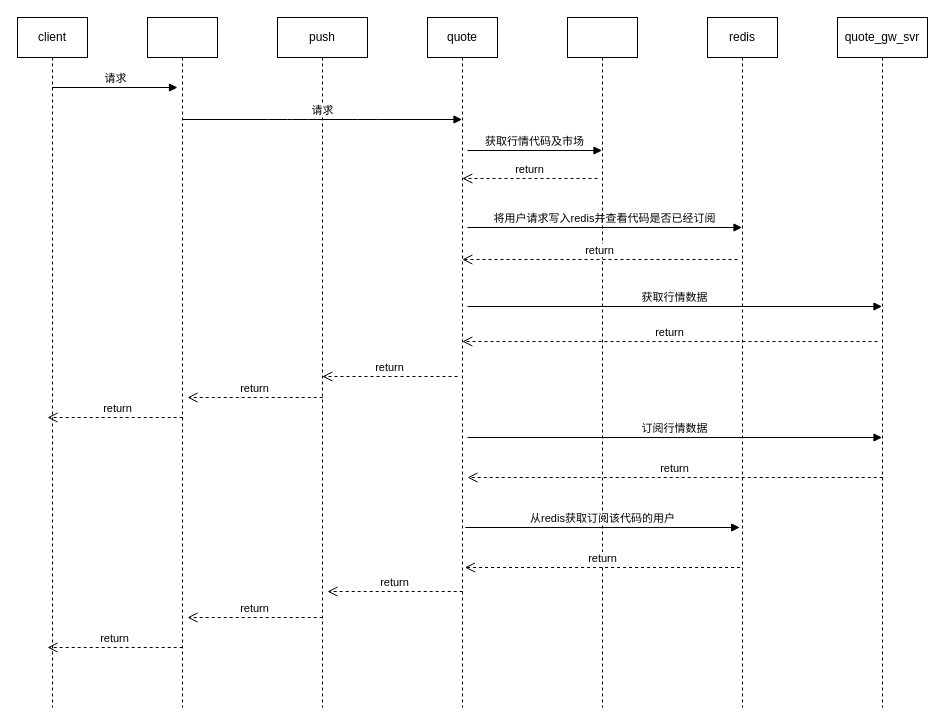
The diagram is 945 pixels wide and 725 high, and some of its shapes have lost their labels. Here are the shapes that lost their labels. From the top down, the box of each, then its label:
(146, 16, 218, 708): apigw
(566, 16, 638, 708): 键盘精灵
